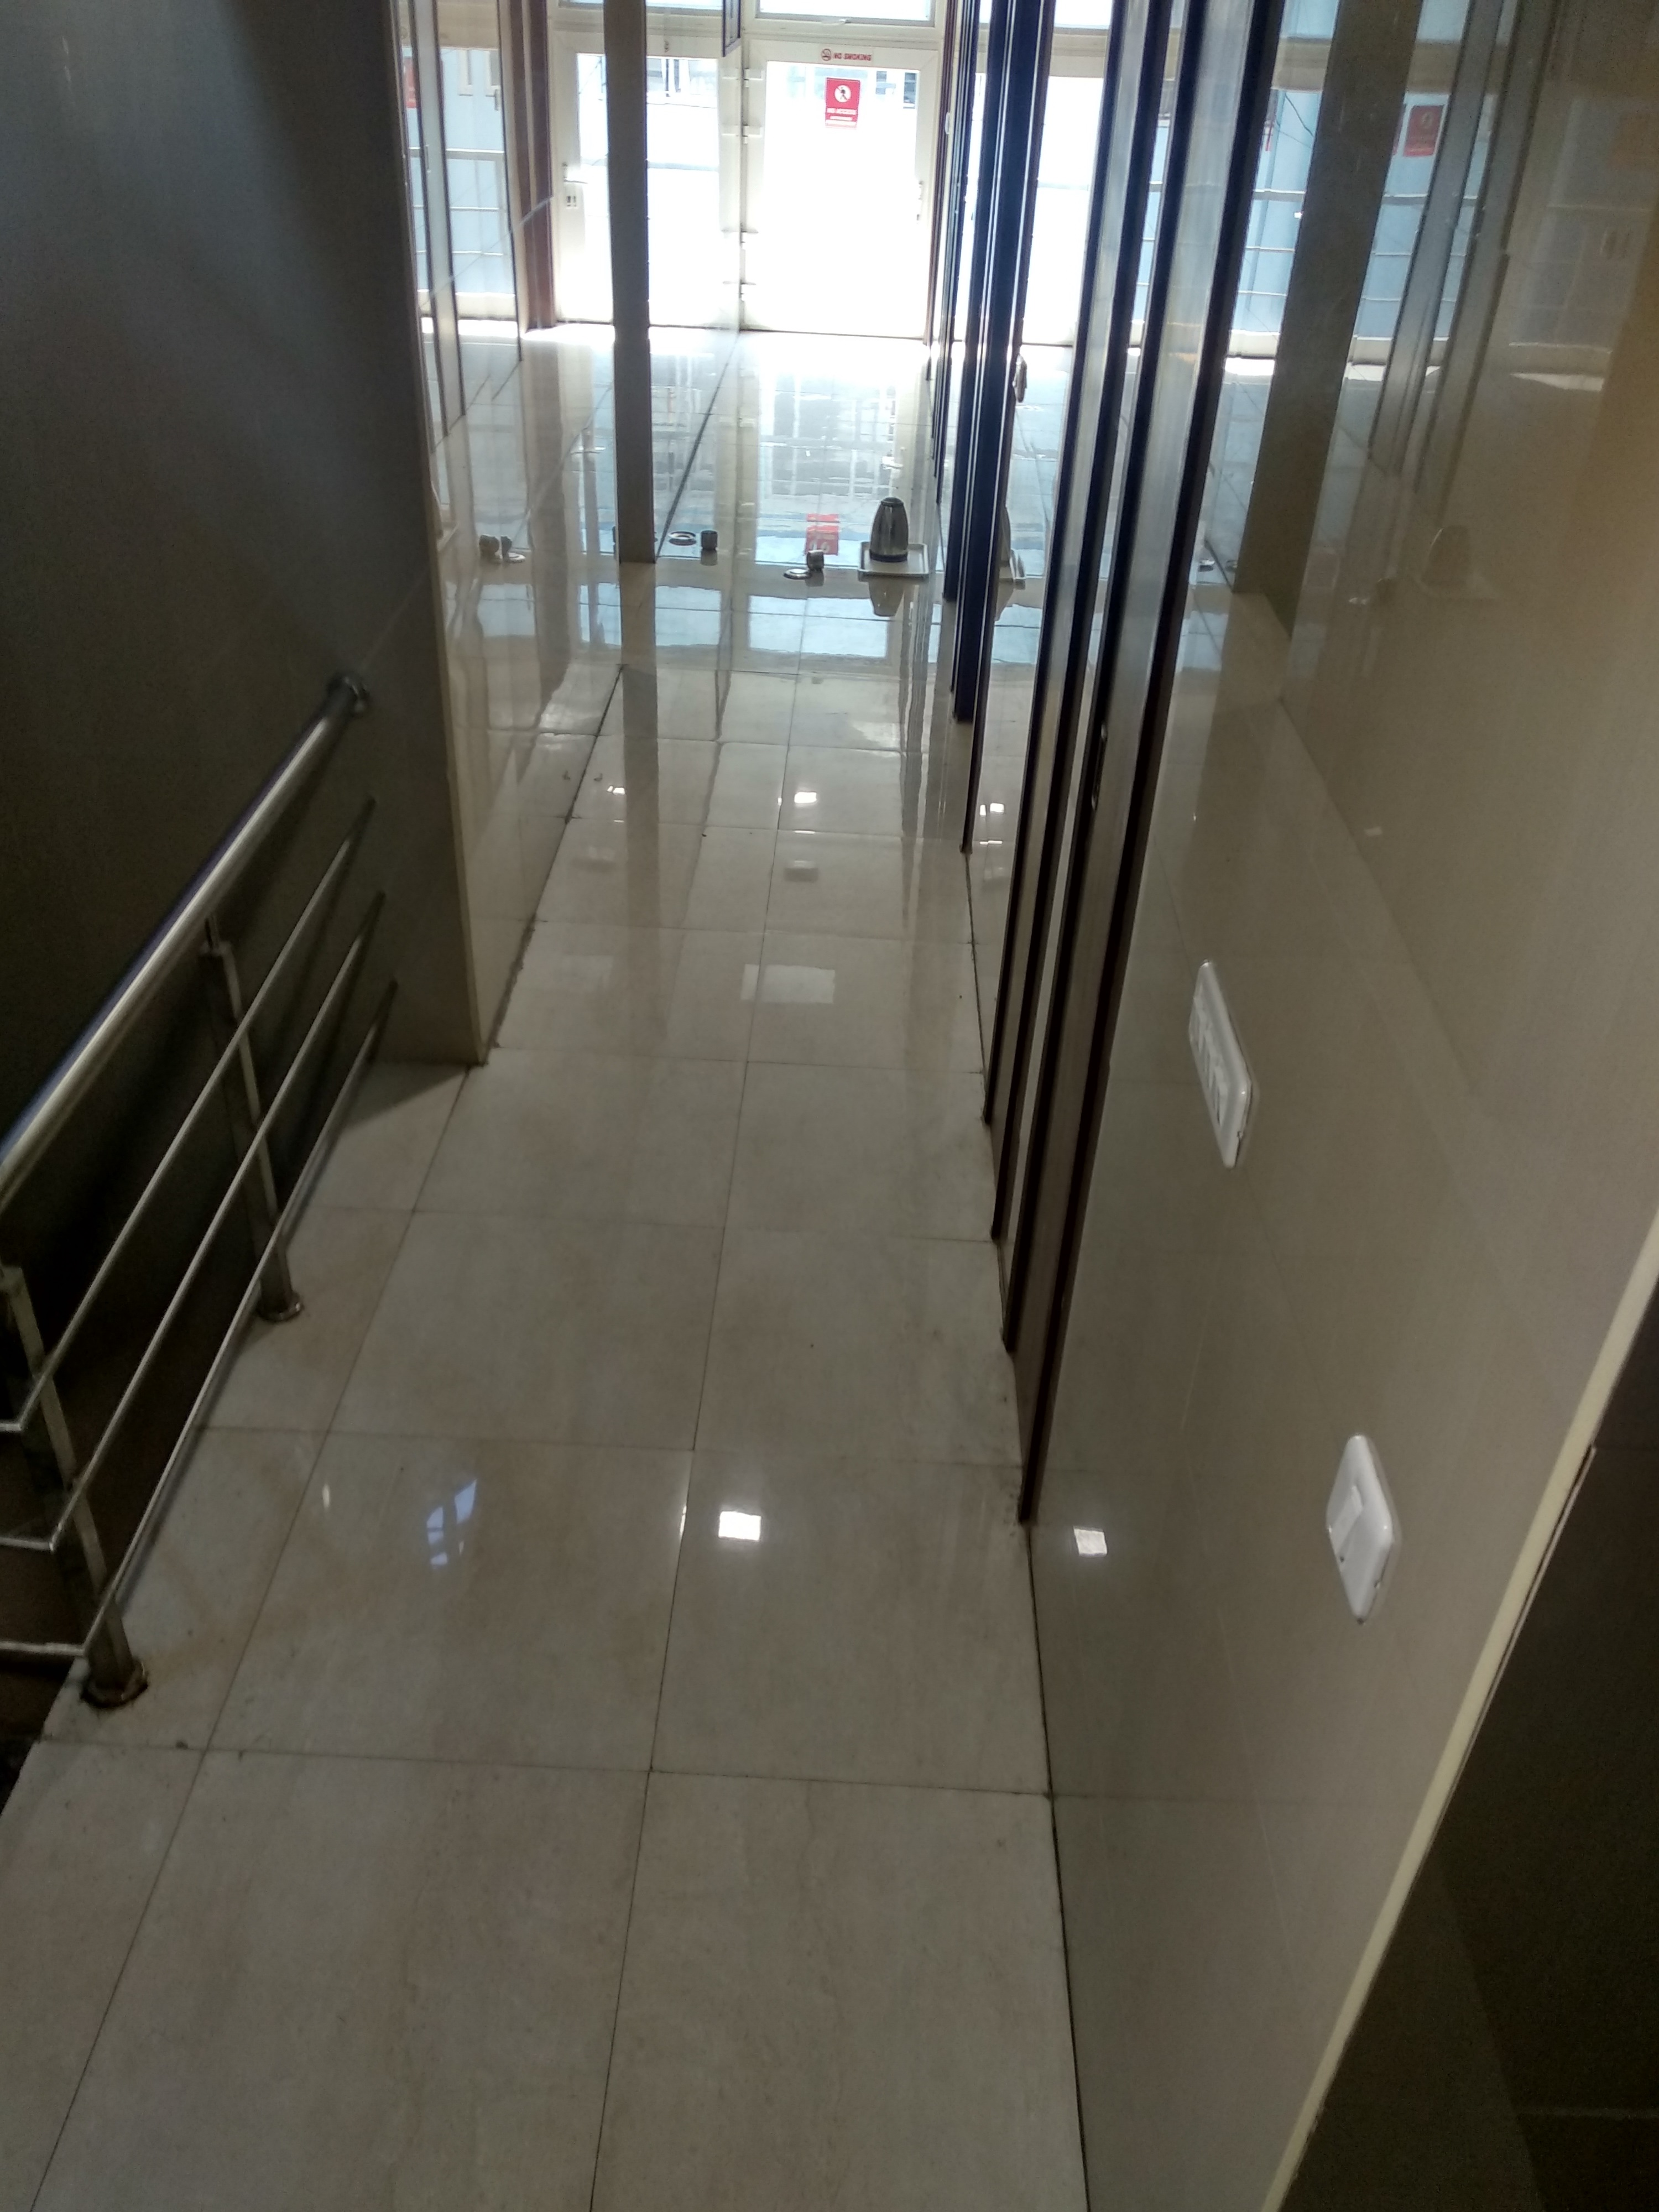CUP: (701, 529, 720, 550), (809, 549, 826, 570)
JUG: (871, 496, 913, 566)
